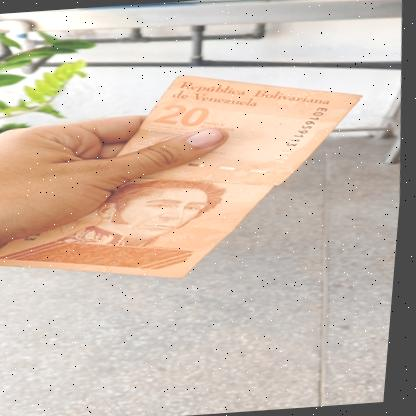twenty-front-vef: (0, 63, 378, 293)
